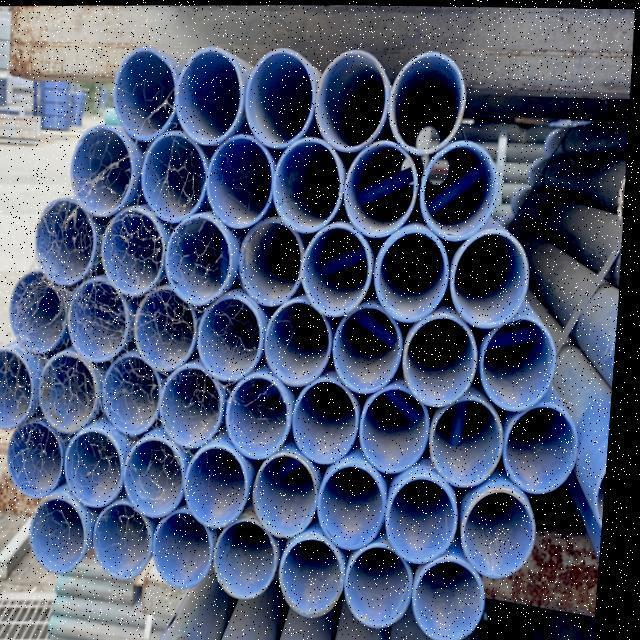pipe: (447, 224, 532, 327), (174, 47, 255, 150), (389, 49, 466, 150), (313, 45, 388, 147), (69, 125, 150, 218), (506, 402, 584, 498), (243, 41, 317, 142), (465, 483, 544, 577), (378, 224, 453, 322), (404, 317, 482, 411), (482, 315, 560, 409), (422, 140, 498, 236), (271, 135, 344, 234), (392, 470, 467, 566), (358, 383, 438, 472), (433, 394, 510, 485), (304, 220, 375, 316), (205, 134, 274, 232), (333, 301, 408, 391), (136, 276, 208, 369), (345, 141, 419, 231), (199, 288, 268, 382), (321, 460, 393, 550), (108, 49, 177, 142), (265, 293, 335, 383), (228, 372, 297, 463), (142, 130, 208, 224), (164, 215, 231, 307), (420, 557, 494, 640), (354, 545, 426, 630), (241, 214, 307, 306), (293, 376, 361, 465), (189, 443, 256, 533), (257, 449, 325, 537), (103, 209, 169, 299), (283, 530, 351, 617), (35, 197, 99, 287), (7, 271, 73, 357), (161, 365, 227, 451), (126, 438, 192, 524), (72, 278, 137, 365), (67, 423, 131, 510), (43, 348, 105, 436), (219, 518, 286, 599), (104, 351, 167, 437), (156, 509, 220, 592), (11, 415, 69, 501), (33, 494, 95, 574), (100, 500, 160, 582), (0, 347, 41, 435)
